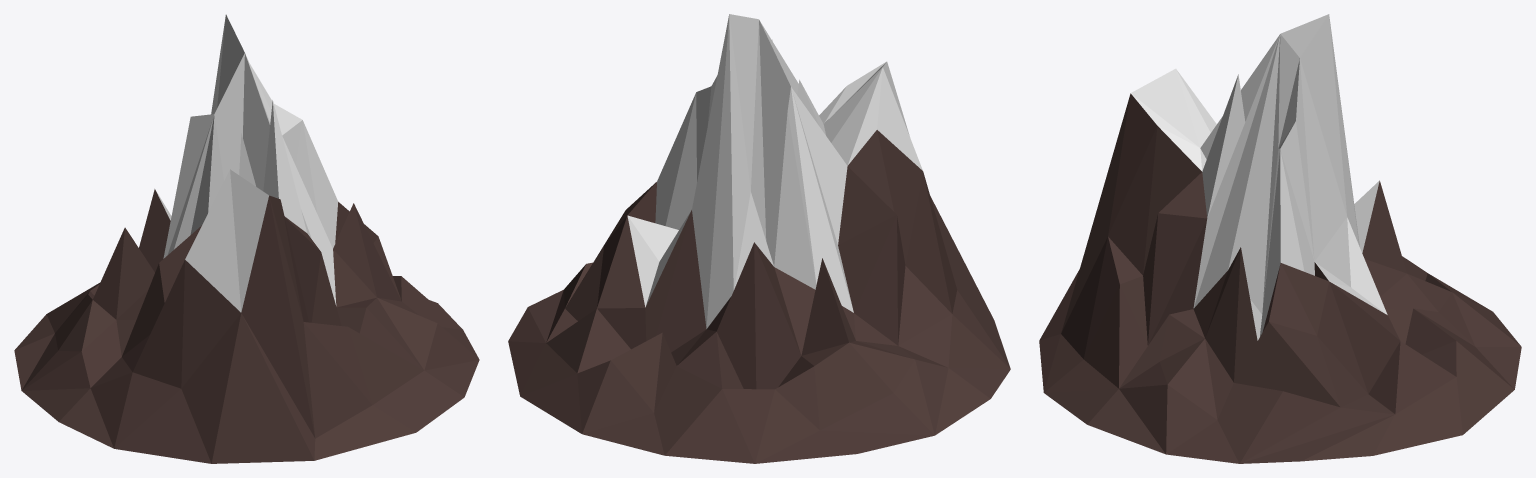
Rendered from montaña-3_lowpoly (1).fbx.
3 views of the same model, side by side, from view 1: azimuth 30°, elevation 25°; view 2: azimuth 150°, elevation 25°; view 3: azimuth 270°, elevation 25° (orthographic). The views are drawn at different scales.
Parts seen in each view (by area): view 1: Circle.002; view 2: Circle.002; view 3: Circle.002.
Part boxes in pixels (bbox=[...]): Circle.002: bbox=[14, 14, 479, 463]; Circle.002: bbox=[508, 14, 1010, 463]; Circle.002: bbox=[1039, 14, 1521, 463].
Bounding box in the file's own units: 2115 × 1692 × 2084.
